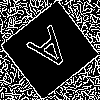A: (25, 24, 79, 81)
